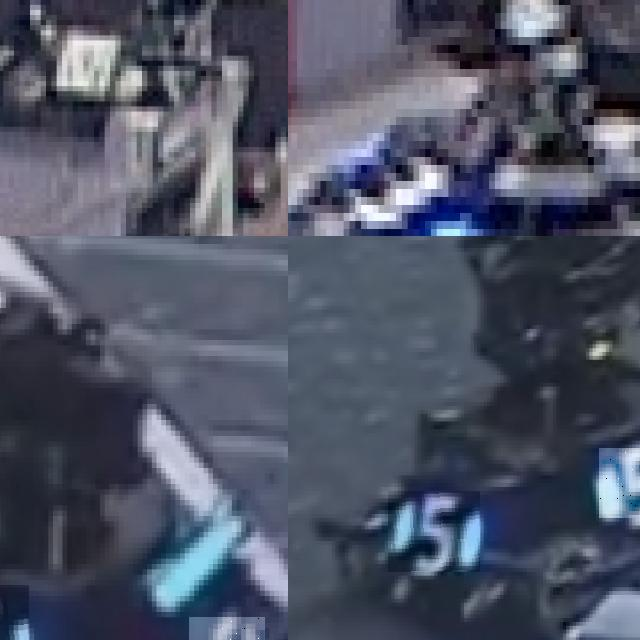B5: (388, 491, 480, 572), (599, 448, 640, 517), (189, 617, 264, 640)
